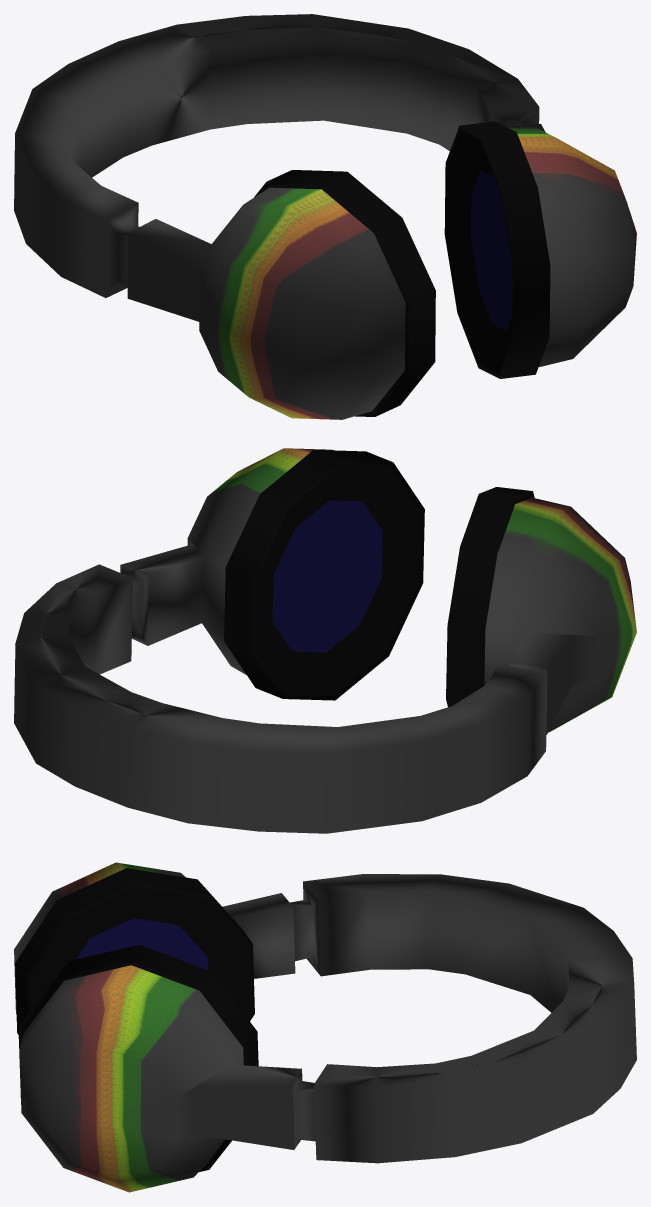
Rendered from loading_phill.fbx.
3 views of the same model, one above another, from view 1: azimuth 30°, elevation 25°; view 2: azimuth 150°, elevation 25°; view 3: azimuth 270°, elevation 25° (orthographic). The views are drawn at different scales.
Visible parts, largest first — view 1: phill's_egg; view 2: phill's_egg; view 3: phill's_egg.
Boxes of the visible parts, x1,y1,x2,y2 form: phill's_egg: [14, 14, 636, 419]; phill's_egg: [14, 448, 636, 833]; phill's_egg: [14, 862, 636, 1192].
Bounding box in the file's own units: 217 × 106 × 263.
